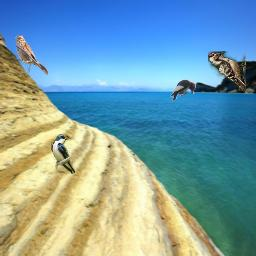Sparrow: (15, 35, 48, 75)
Swallow: (51, 134, 75, 174)
Woodpecker: (208, 51, 246, 91), (170, 79, 196, 102)
